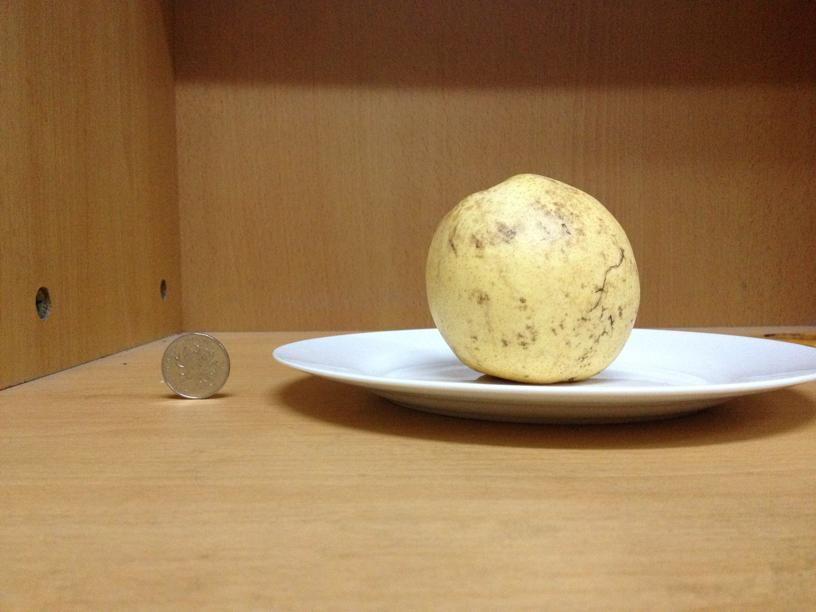coin: (159, 333, 231, 398)
pear: (431, 172, 639, 380)
